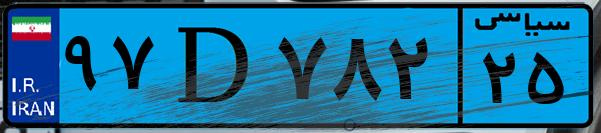2: (385, 28, 445, 110), (475, 38, 525, 113)
5: (525, 38, 570, 115)
7: (270, 28, 330, 110), (110, 28, 158, 98)
8: (330, 28, 385, 110)
9: (57, 26, 110, 100)
D: (158, 12, 270, 120)
